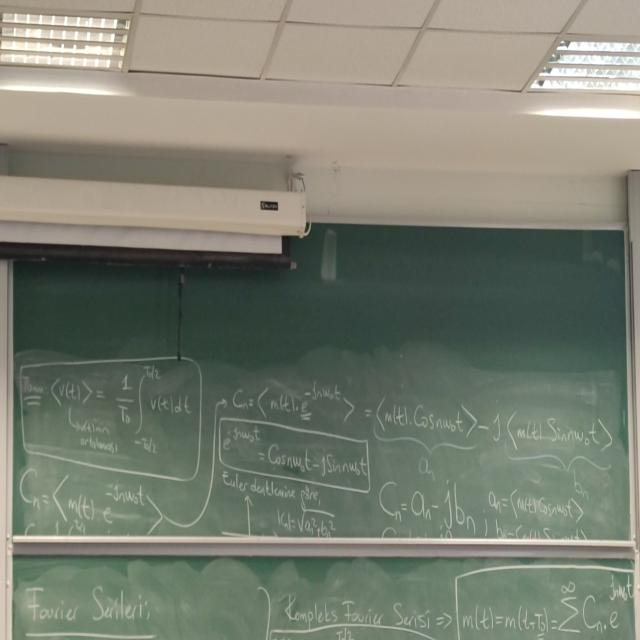math: (19, 366, 198, 457), (372, 474, 586, 529), (17, 462, 153, 530), (474, 398, 605, 451), (220, 380, 352, 431), (381, 399, 470, 444)
